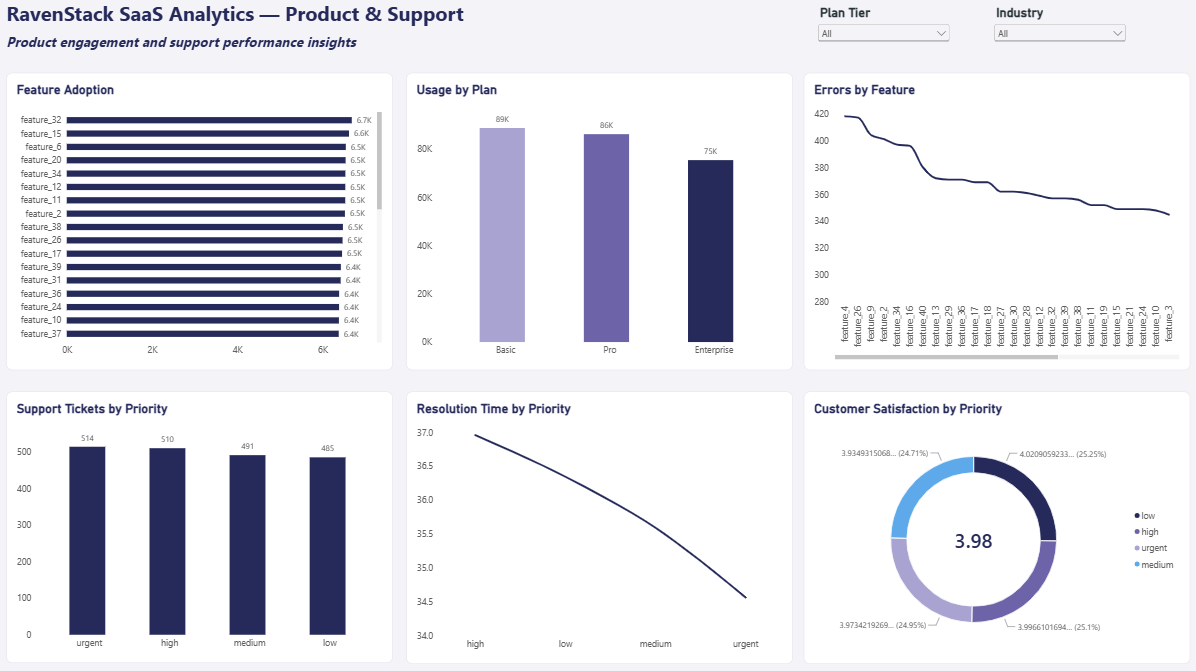

The page's visual inventory and layout, read from the dashboard file:
{"tool":"powerbi","page":{"name":"03 Product & Support","canvas":[1920,1080],"ordinal":2},"visuals":[{"type":"textbox","box":[10.8,0,796.4,54.1],"z":0},{"type":"textbox","box":[10.8,54.1,729.7,43.2],"z":1},{"type":"clusteredBarChart","title":"Feature Adoption","fields":{"Category":["feature_usage.feature_name"],"Y":["Sum(feature_usage.usage_count)"]},"box":[10.8,118.9,618,475.7],"z":2},{"type":"clusteredColumnChart","title":"Usage by Plan","fields":{"Category":["accounts.plan_tier"],"Y":["Sum(feature_usage.usage_count)"]},"box":[650.5,118.9,618,475.7],"z":3},{"type":"lineChart","title":"Errors by Feature","fields":{"Category":["feature_usage.feature_name"],"Y":["Sum(feature_usage.error_count)"]},"box":[1286,118,618,475.7],"z":4},{"type":"clusteredColumnChart","title":"Support Tickets by Priority","fields":{"Category":["support_tickets.priority"],"Y":["CountNonNull(support_tickets.ticket_id)"]},"box":[10,628,618,434],"z":6},{"type":"donutChart","title":"Customer Satisfaction by Priority","fields":{"Category":["support_tickets.priority"],"Y":["Avg(support_tickets.satisfaction_score)"]},"box":[1286,628,618,436],"z":7},{"type":"lineChart","title":"Resolution Time by Priority","fields":{"Category":["support_tickets.priority"],"Y":["Avg(support_tickets.resolution_time_hours)"]},"box":[650,628,618,436],"z":8},{"type":"slicer","fields":{"Values":["accounts.plan_tier"]},"box":[1304,10,220,100],"z":9},{"type":"slicer","fields":{"Values":["accounts.industry"]},"box":[1586,10,220,100],"z":10}]}

Visuals, with their boxes in screenshot pixels (x1, y1, x2, y2), scaled from the page's 1920x1080 canvas onto the 1196x671 screenshot:
textbox: box(7, 0, 503, 34)
textbox: box(7, 34, 461, 60)
"Feature Adoption" clusteredBarChart: box(7, 74, 392, 369)
"Usage by Plan" clusteredColumnChart: box(405, 74, 790, 369)
"Errors by Feature" lineChart: box(801, 73, 1186, 369)
"Support Tickets by Priority" clusteredColumnChart: box(6, 390, 391, 660)
"Customer Satisfaction by Priority" donutChart: box(801, 390, 1186, 661)
"Resolution Time by Priority" lineChart: box(405, 390, 790, 661)
slicer - accounts.plan_tier: box(812, 6, 949, 68)
slicer - accounts.industry: box(988, 6, 1125, 68)
